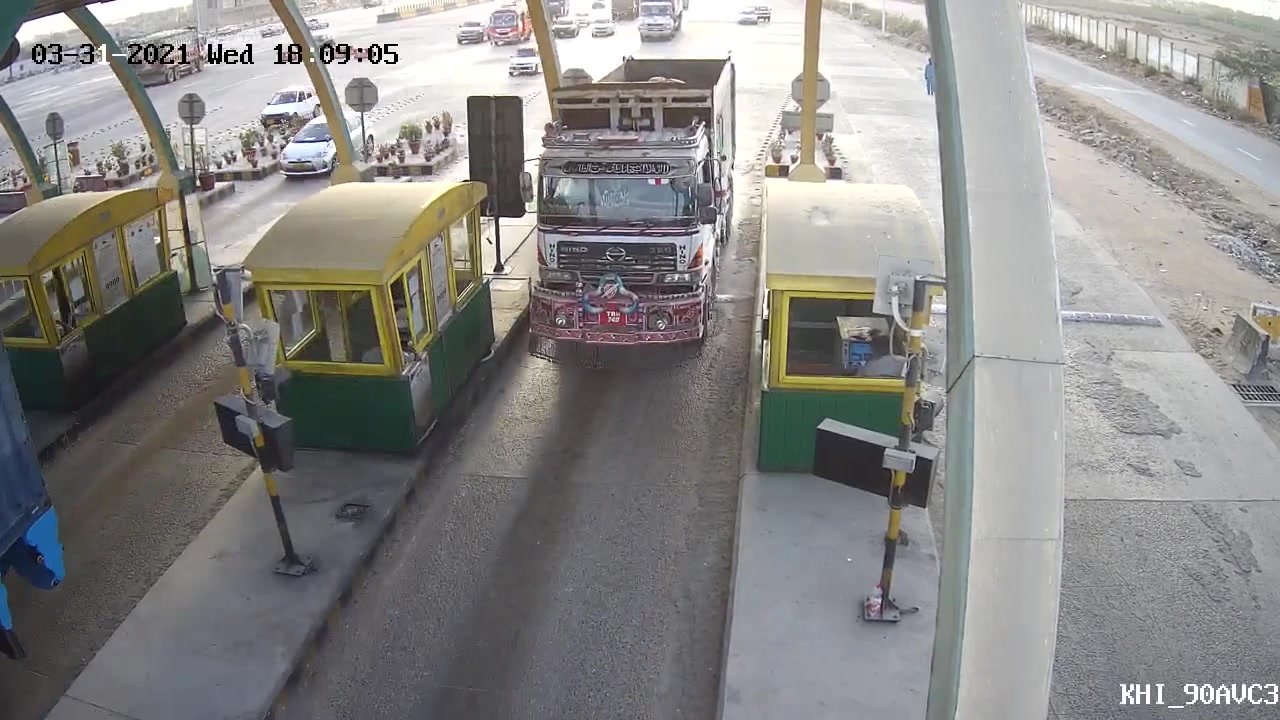F5: (502, 44, 744, 382)
